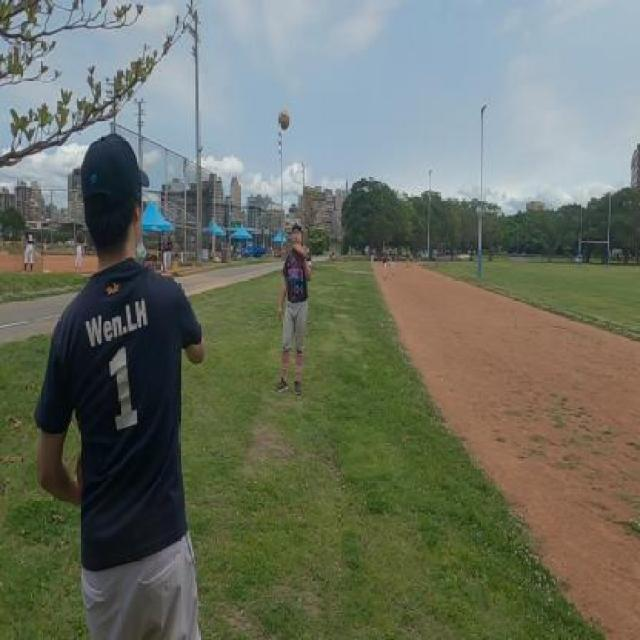sports ball: (278, 110, 290, 130)
